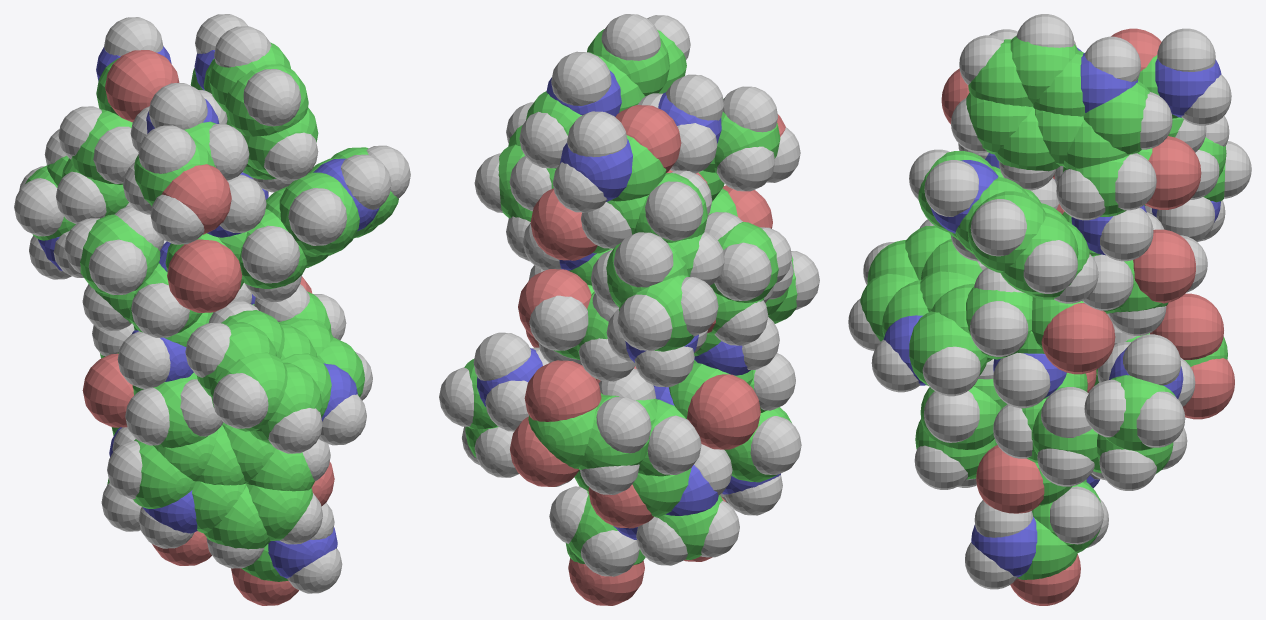
The model's file is 1le0__spheres__default.glb.
3 renders of one model, left to right at view 1: azimuth 30°, elevation 25°; view 2: azimuth 150°, elevation 25°; view 3: azimuth 270°, elevation 25°, orthographic. The views are drawn at different scales.
Parts seen in each view (by area): view 1: Renderer Node; view 2: Renderer Node; view 3: Renderer Node.
Boxes of the visible parts, x1,y1,x2,y2 form: Renderer Node: [14, 14, 410, 605]; Renderer Node: [439, 14, 819, 605]; Renderer Node: [848, 14, 1251, 605].
Size of the model in its own units: 14.06 by 25.84 by 16.46.
